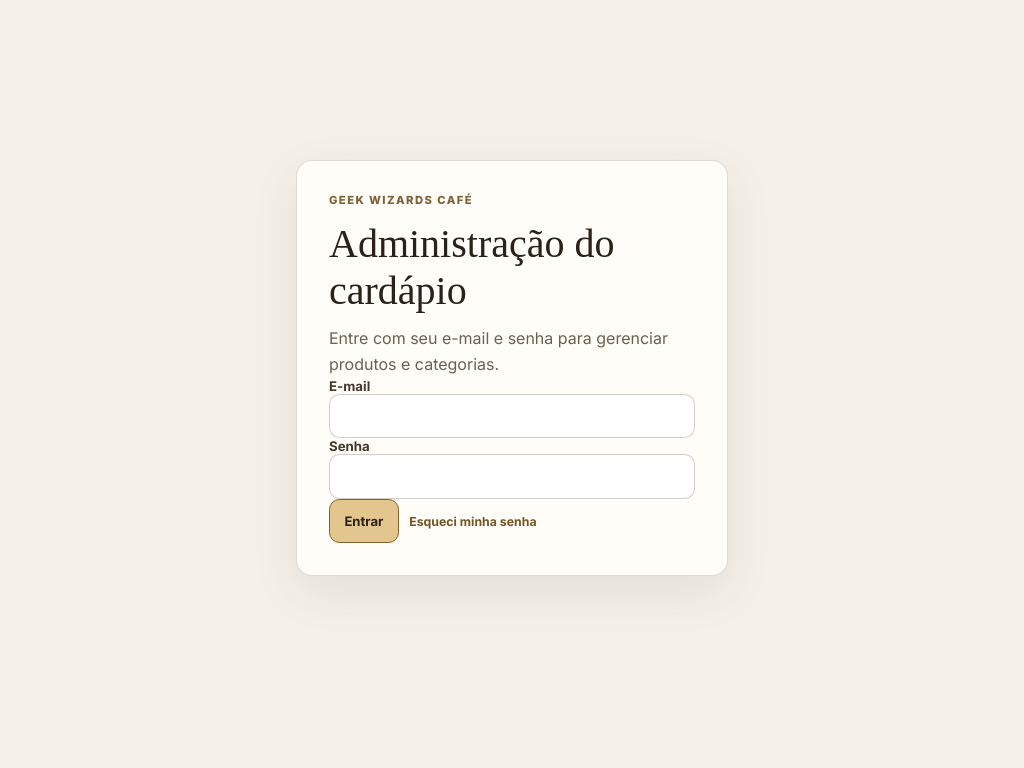
Test: AdminCatalog › cancela uma edição sem enviar alterações
In the field labelled "E-mail": (512, 416) [329,394,695,438], type "owner@example.com"
In the password field labelled "Senha": (512, 477) [329,454,695,499], type "senha-de-teste"
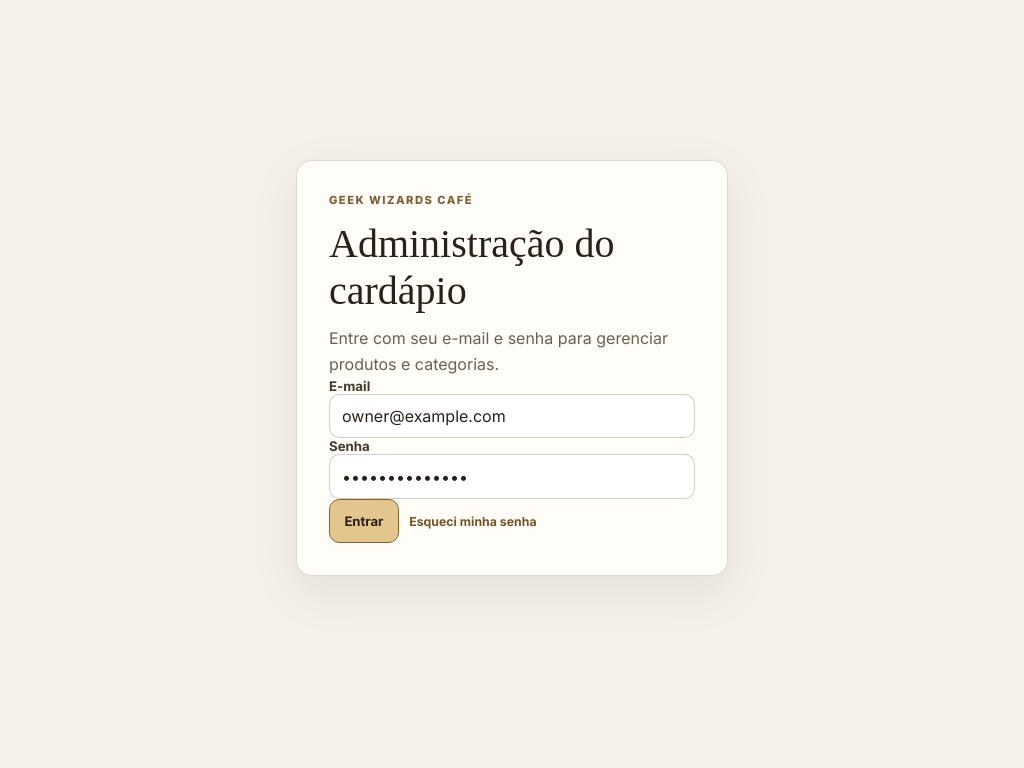
Click the button "Entrar": (364, 521) [329,499,399,543]
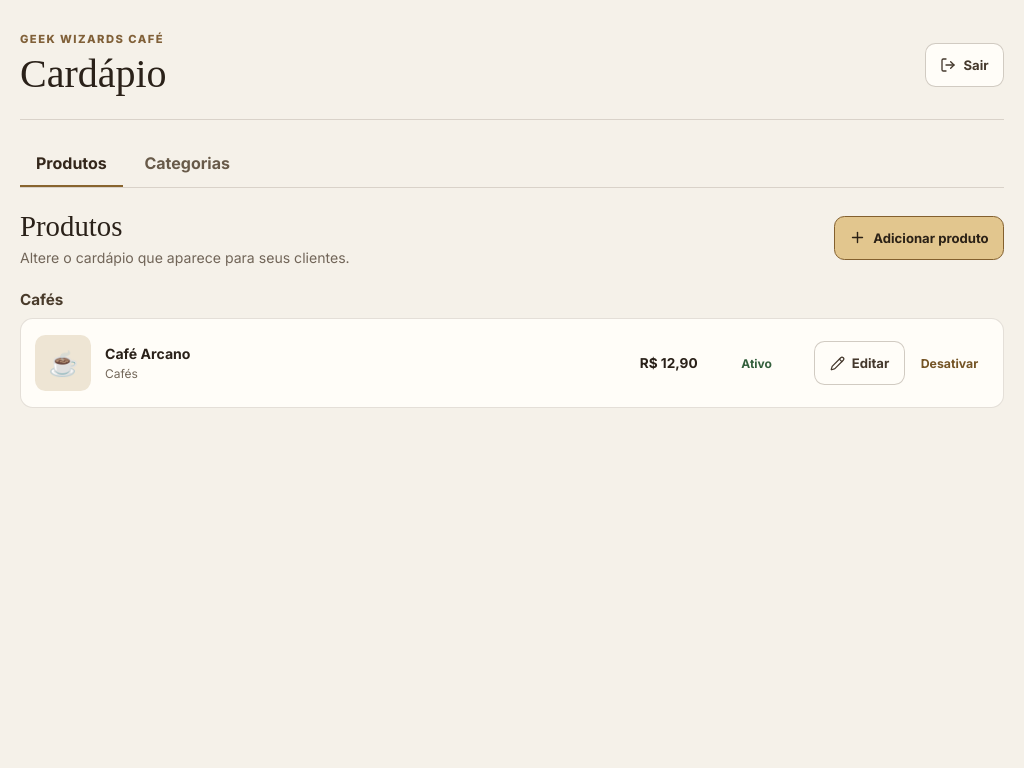
Result: the heading "Produtos" is shown at [20,210,122,242]
Click the button "Editar": (859, 363) [814,341,905,385]
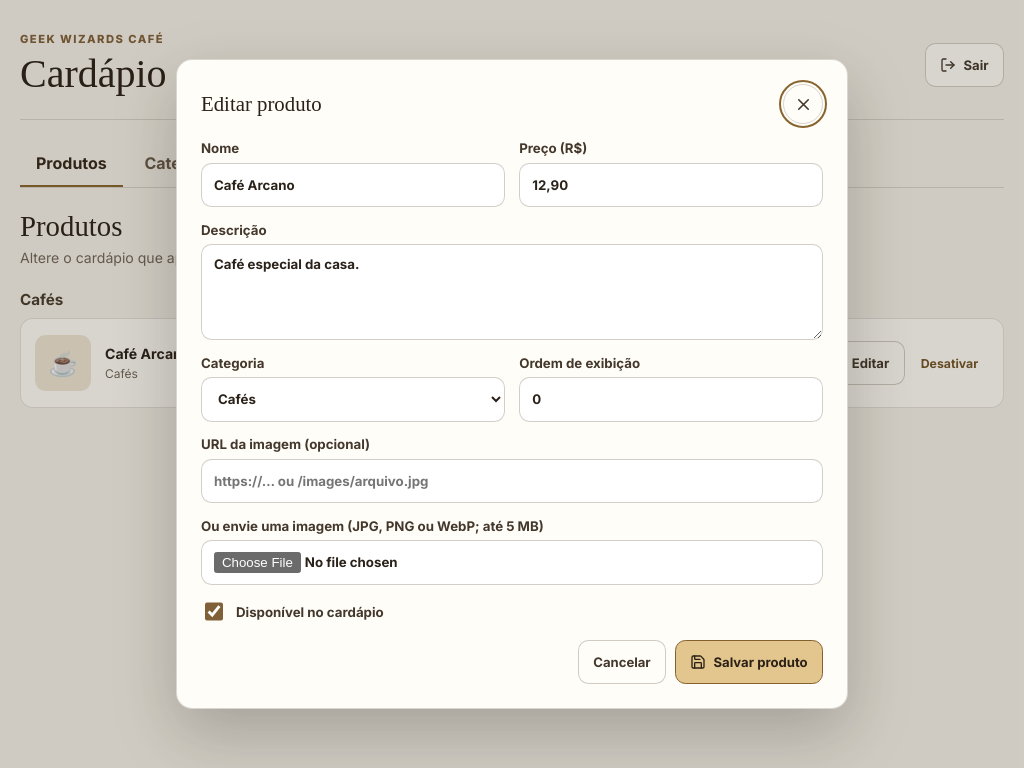
Replace the text in the field labelled "Nome" with "Nome que não deve ser salvo": (353, 185) [201,163,505,207]
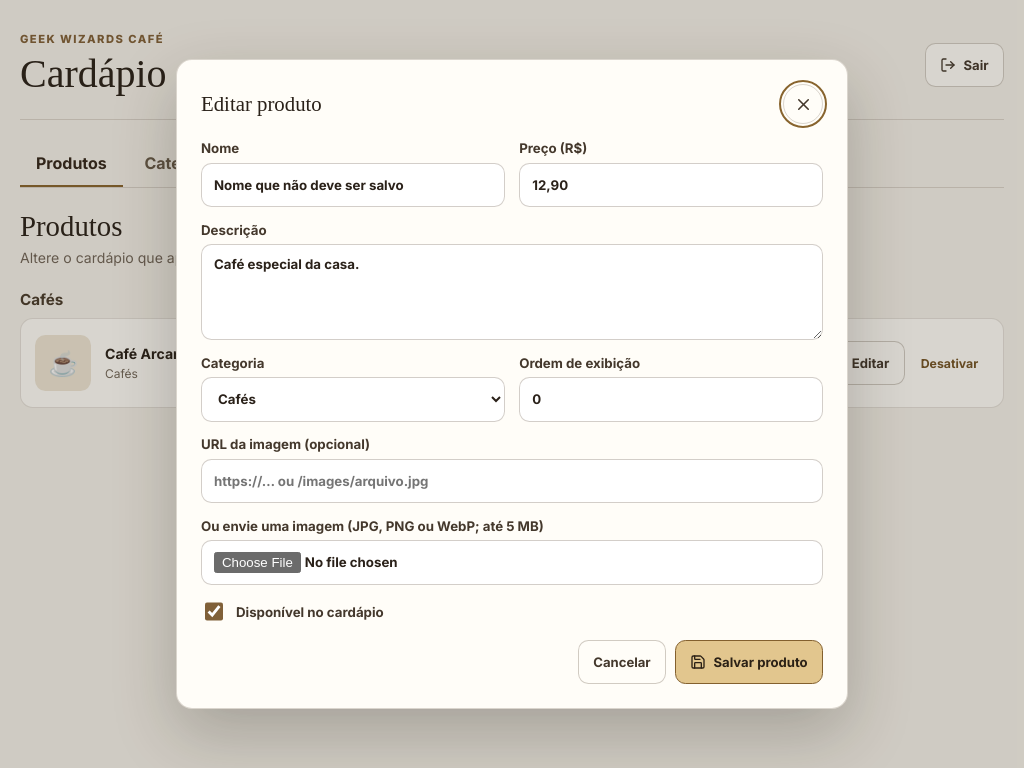
Click the button "Cancelar": (622, 662) [578,640,666,684]
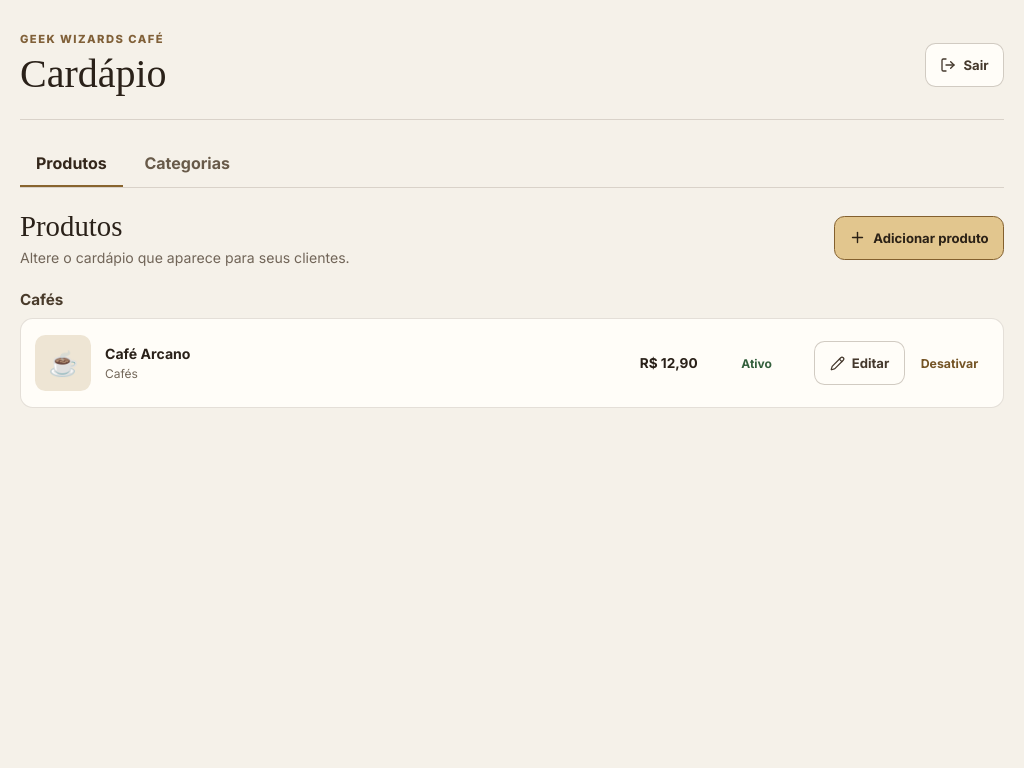
Result: the label labelled "Nome" is gone
Click the button "Editar": (859, 363) [814,341,905,385]
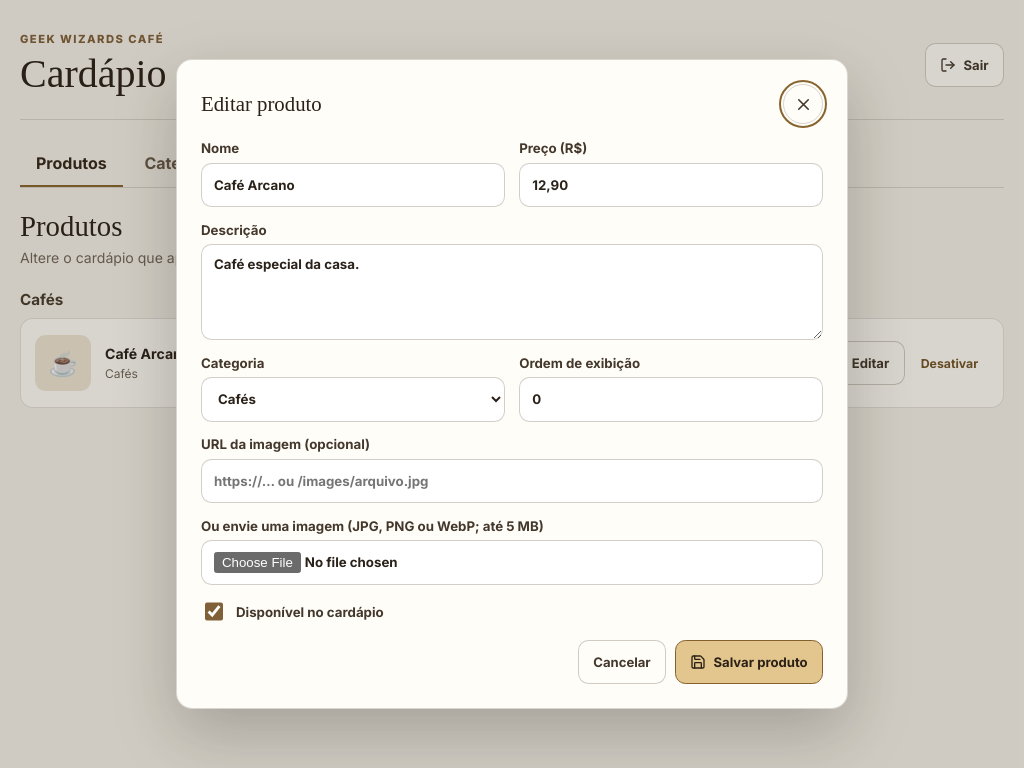
Result: the field labelled "Nome" holds "Café Arcano" at [201,163,505,207]
